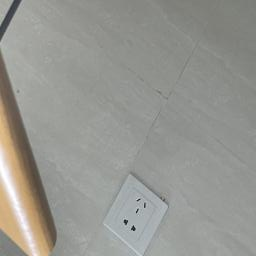outlet: (98, 171, 169, 256)
